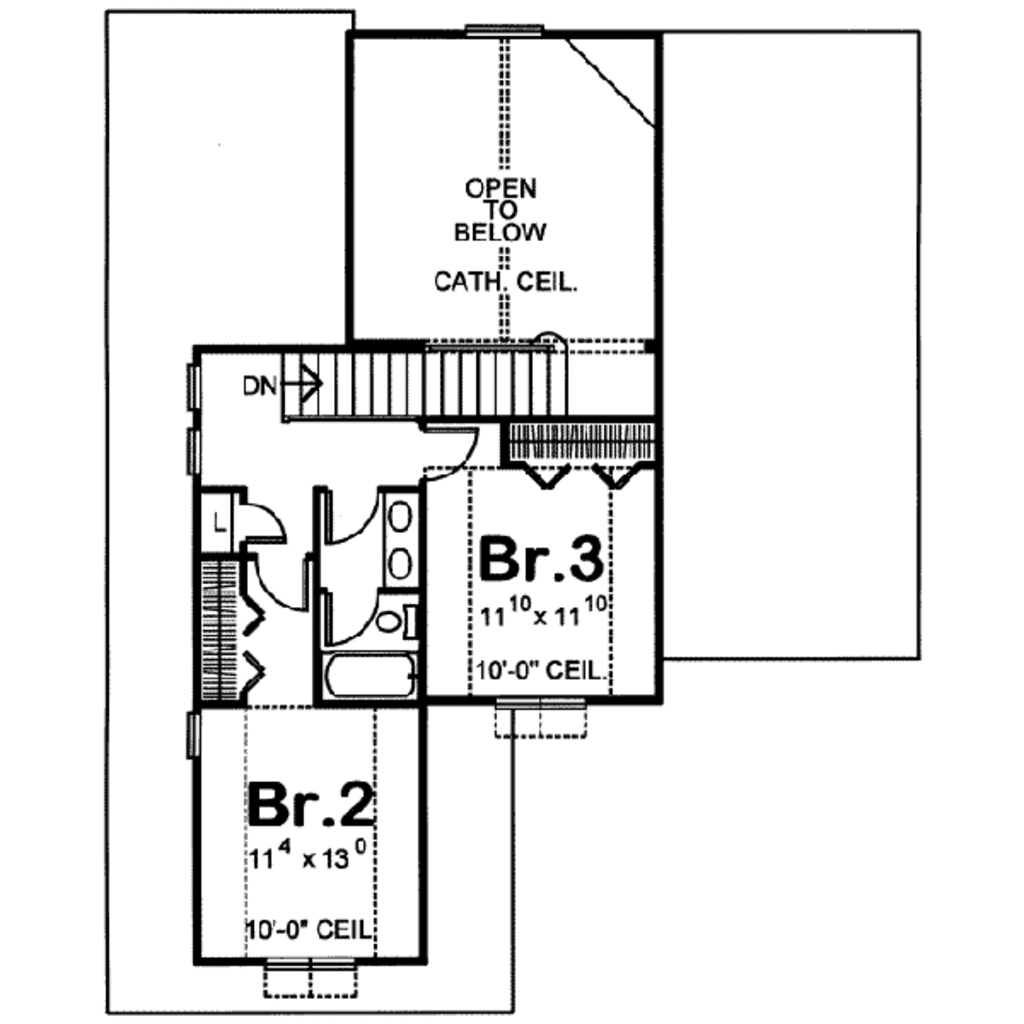door: (414, 425, 487, 487), (249, 552, 311, 619), (321, 482, 383, 541), (321, 589, 378, 646), (232, 497, 286, 546)
large_sink: (365, 605, 424, 639)
small_sink: (381, 495, 418, 593)
stairs: (268, 347, 572, 424)
tub: (325, 654, 425, 708)
window: (456, 14, 549, 43), (492, 693, 595, 716), (176, 360, 216, 416), (181, 709, 214, 760), (181, 428, 206, 476)
